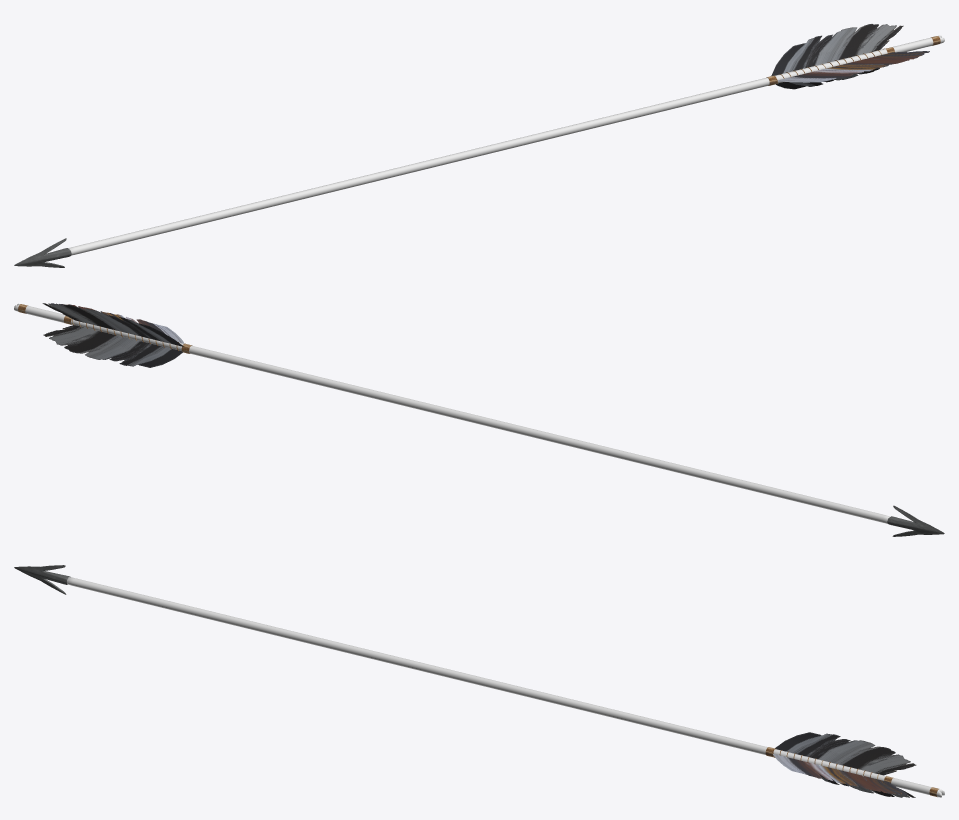
File: MedievalArrow.fbx
3 views of the same model, one above another, from view 1: azimuth 30°, elevation 25°; view 2: azimuth 150°, elevation 25°; view 3: azimuth 330°, elevation 25° (orthographic).
Visible parts, largest first — view 1: node_e2f85332_6ea1_4146_8717_6bfbea068c61_mesh0, node_15a67863_0532_4b5f_adb3_5acb660352a6_mesh0, node_ccf58cf1_4bc3_4908_b225_d5778d3093d1_mesh0, node_04431e94_f7c1_42b1_87a8_cd41ca78c20f_mesh0; view 2: node_e2f85332_6ea1_4146_8717_6bfbea068c61_mesh0, node_59af4839_19e9_4a97_9196_40bf8d1b242d_mesh0, node_15a67863_0532_4b5f_adb3_5acb660352a6_mesh0, node_04431e94_f7c1_42b1_87a8_cd41ca78c20f_mesh0; view 3: node_e2f85332_6ea1_4146_8717_6bfbea068c61_mesh0, node_15a67863_0532_4b5f_adb3_5acb660352a6_mesh0, node_ccf58cf1_4bc3_4908_b225_d5778d3093d1_mesh0, node_04431e94_f7c1_42b1_87a8_cd41ca78c20f_mesh0.
Part boxes in pixels (box(x1,y1,x2,y2)): node_e2f85332_6ea1_4146_8717_6bfbea068c61_mesh0: box(68, 35, 944, 255); node_15a67863_0532_4b5f_adb3_5acb660352a6_mesh0: box(771, 24, 903, 75); node_ccf58cf1_4bc3_4908_b225_d5778d3093d1_mesh0: box(777, 51, 929, 82); node_04431e94_f7c1_42b1_87a8_cd41ca78c20f_mesh0: box(14, 238, 71, 267); node_e2f85332_6ea1_4146_8717_6bfbea068c61_mesh0: box(14, 303, 890, 523); node_59af4839_19e9_4a97_9196_40bf8d1b242d_mesh0: box(43, 325, 182, 367); node_15a67863_0532_4b5f_adb3_5acb660352a6_mesh0: box(42, 303, 183, 346); node_04431e94_f7c1_42b1_87a8_cd41ca78c20f_mesh0: box(887, 505, 944, 536); node_e2f85332_6ea1_4146_8717_6bfbea068c61_mesh0: box(67, 577, 944, 797); node_15a67863_0532_4b5f_adb3_5acb660352a6_mesh0: box(775, 732, 916, 775); node_ccf58cf1_4bc3_4908_b225_d5778d3093d1_mesh0: box(773, 754, 907, 795); node_04431e94_f7c1_42b1_87a8_cd41ca78c20f_mesh0: box(14, 565, 70, 594).
Size of the model in its own units: 3265 by 172 by 162.
Materials: 5 (4 with a texture image).
